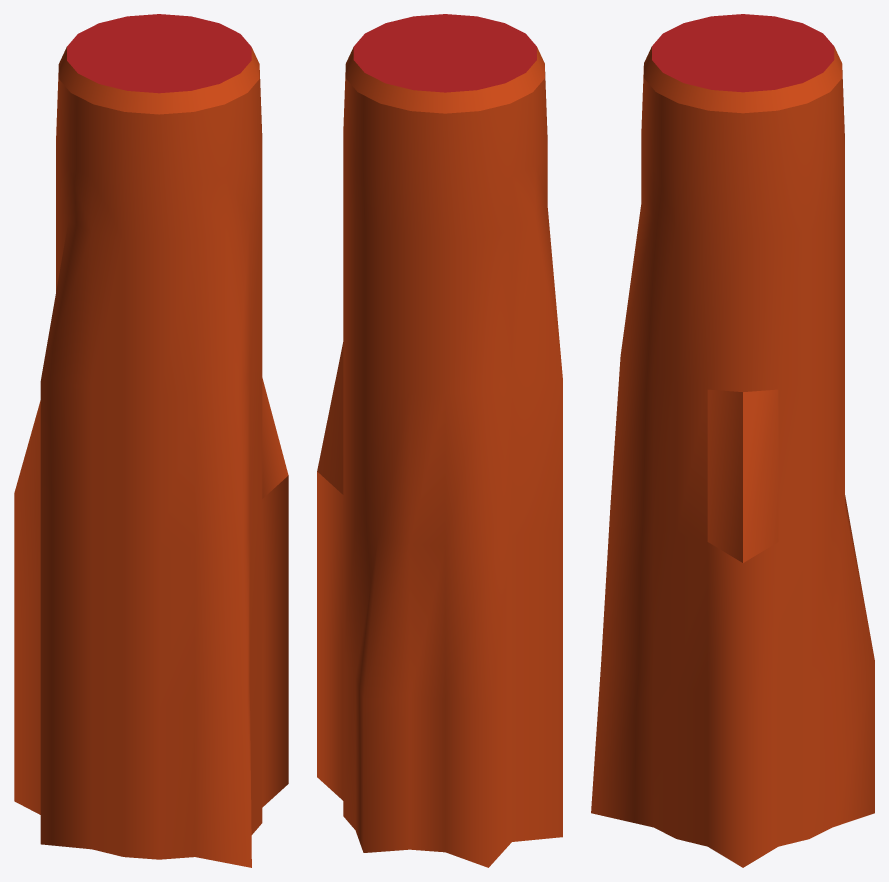
Rendered from Tree Stump 6.fbx.
3 views of the same model, side by side, from view 1: azimuth 30°, elevation 25°; view 2: azimuth 150°, elevation 25°; view 3: azimuth 270°, elevation 25° (orthographic).
Parts seen in each view (by area): view 1: Tree Stump 6; view 2: Tree Stump 6; view 3: Tree Stump 6.
Boxes of the visible parts, x1,y1,x2,y2 form: Tree Stump 6: [14, 14, 288, 867]; Tree Stump 6: [317, 14, 562, 867]; Tree Stump 6: [591, 14, 874, 867].
Bounding box in the file's own units: 26.64 × 78.22 × 26.75.
Materials: 2 (2 with a texture image).
